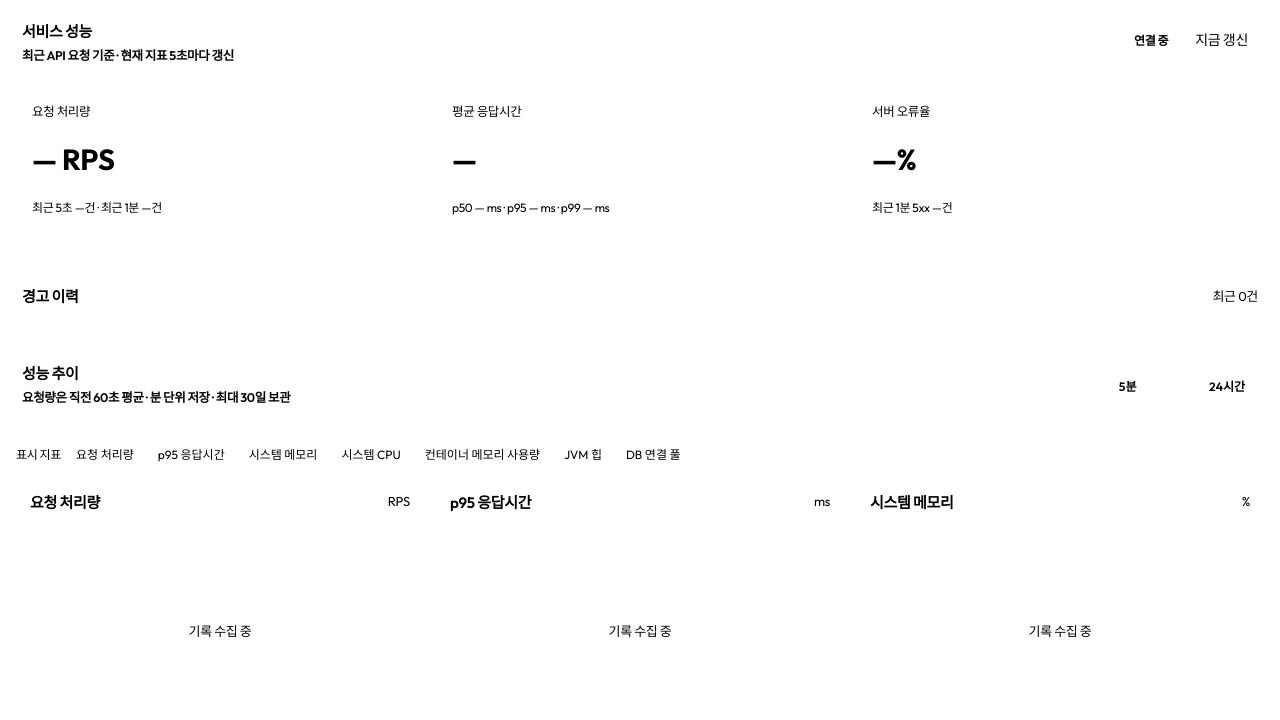
Test: PerformancePanel › shows persisted performance alert events
Step 1. Click the text "경고 이력" → (50, 296), box x1=22 y1=285 x2=78 y2=306
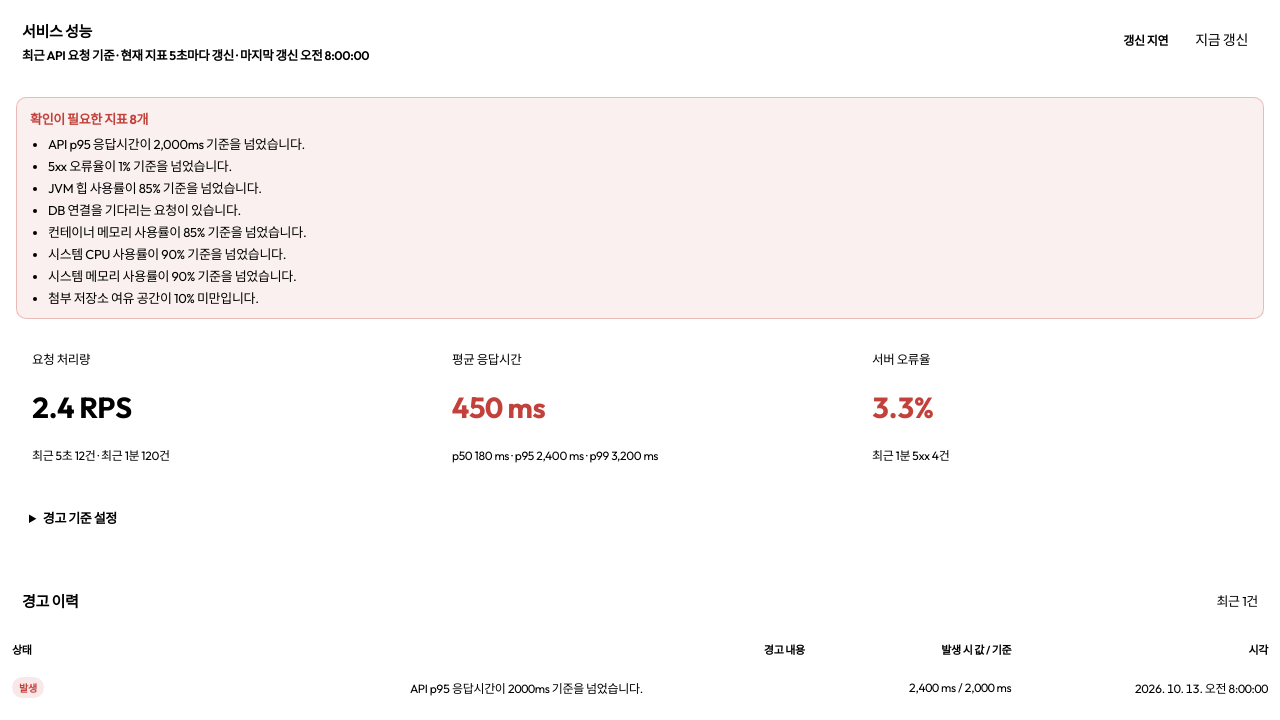
Expected: the text "API p95 응답시간이 2000ms 기준을 넘었습니다." is shown, x1=398 y1=667 x2=817 y2=708
Expected: the text "발생" is shown, x1=12 y1=677 x2=44 y2=698
Expected: the text "2,400 ms / 2,000 ms" is shown, x1=817 y1=667 x2=1023 y2=708
